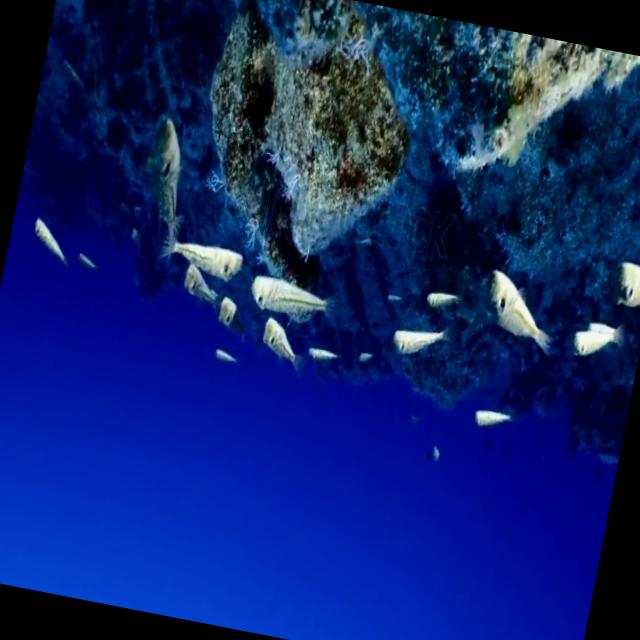Balon Baligi: (127, 120, 201, 254), (479, 266, 556, 351), (244, 265, 343, 328), (162, 230, 256, 294), (551, 312, 626, 385), (387, 318, 449, 376), (26, 217, 78, 271), (600, 250, 640, 320), (462, 396, 516, 444), (258, 326, 306, 379), (418, 276, 461, 323), (309, 336, 346, 369), (208, 348, 244, 370)
